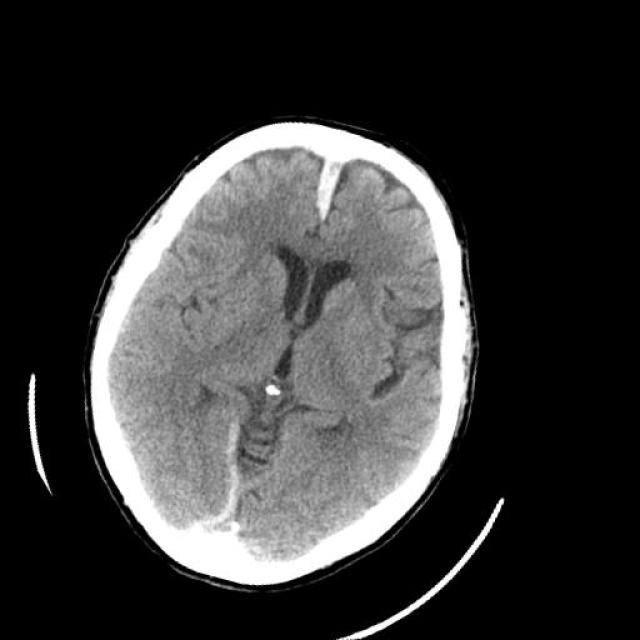Subdural: (178, 406, 298, 572)
